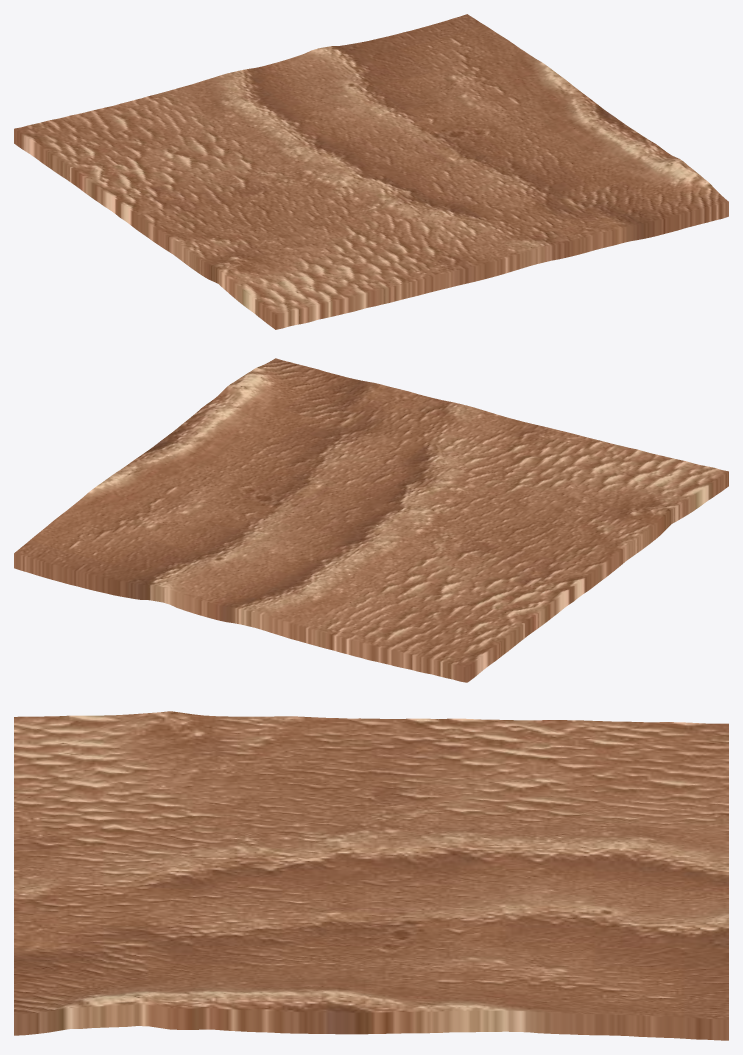
The picture shows the model from 3 angles, top to bottom: view 1: azimuth 30°, elevation 25°; view 2: azimuth 150°, elevation 25°; view 3: azimuth 270°, elevation 25°; orthographic projection. The views are drawn at different scales.
Parts seen in each view (by area): view 1: L5_16_27; view 2: L5_16_27; view 3: L5_16_27.
Part boxes in pixels (bbox=[...]): L5_16_27: bbox=[14, 14, 728, 329]; L5_16_27: bbox=[14, 358, 728, 682]; L5_16_27: bbox=[14, 711, 728, 1040].
Size of the model in its own units: 450 by 30.21 by 450.
1 material, 1 textured.
